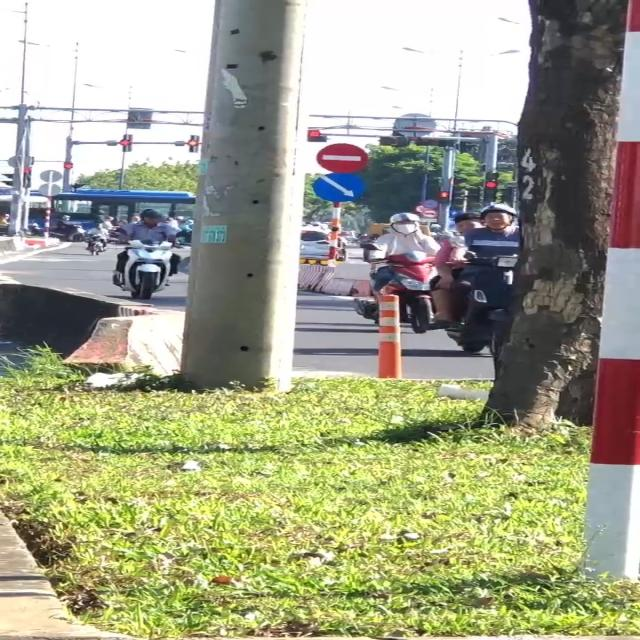Bien bao cam di nguoc chieu: (316, 140, 374, 171)
Bien bao huong phai di vong chuong ngai vat: (308, 172, 373, 204)
